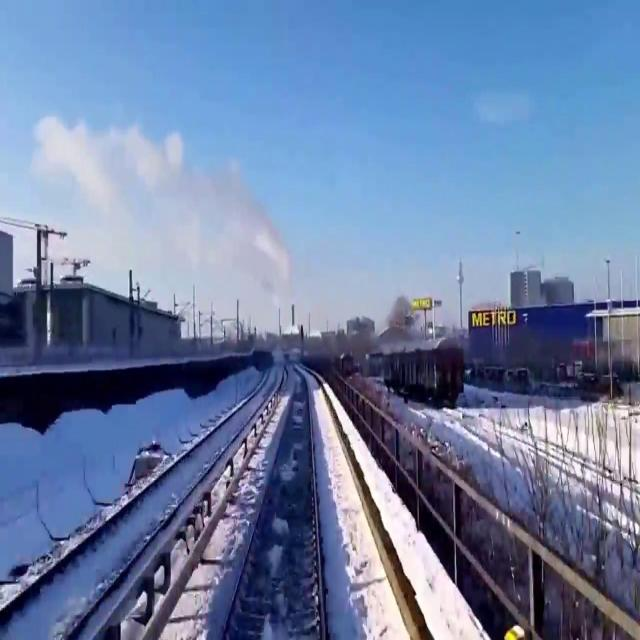rail-track: (0, 363, 277, 639), (223, 363, 320, 639)
